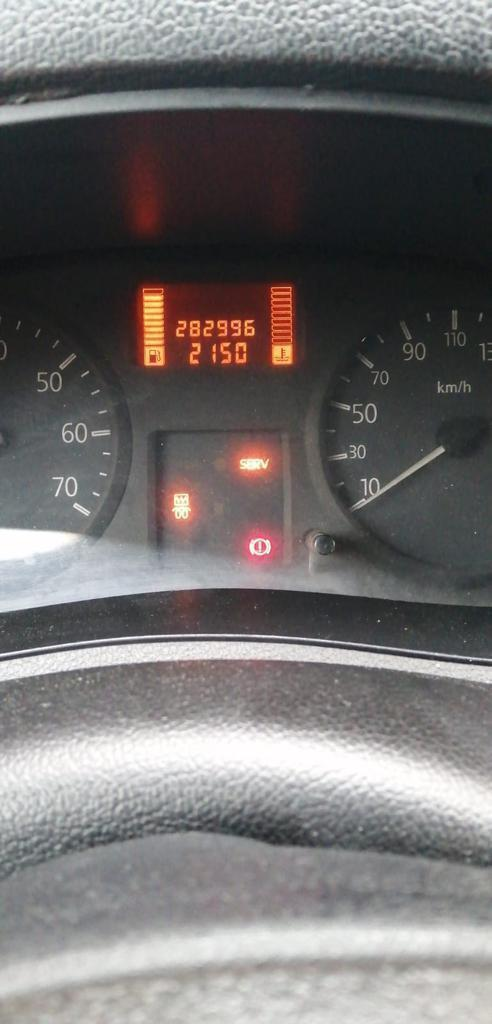0: (234, 341, 247, 364)
1: (210, 341, 218, 365)
2: (188, 341, 201, 365), (203, 318, 214, 337), (175, 319, 186, 337)
5: (219, 340, 231, 364)
6: (244, 318, 256, 336)
8: (189, 319, 200, 337)
9: (230, 319, 241, 336), (217, 319, 227, 336)
odometer: (134, 279, 297, 369)
